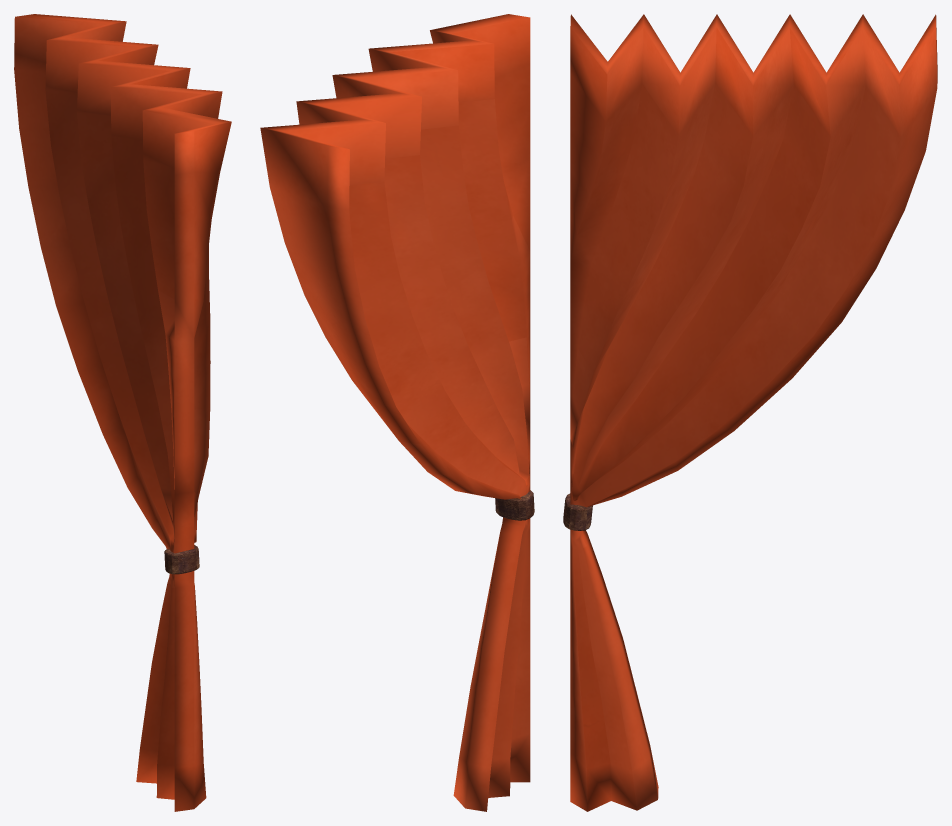
The model's file is curtain.fbx.
The picture shows the model from 3 angles, left to right: view 1: azimuth 30°, elevation 25°; view 2: azimuth 150°, elevation 25°; view 3: azimuth 270°, elevation 25°; orthographic projection. The views are drawn at different scales.
Visible parts, largest first — view 1: Circle.004, Cube.015; view 2: Circle.004, Cube.015; view 3: Circle.004, Cube.015.
Part boxes in pixels (box(x1,y1,x2,y2)): Circle.004: box(14, 14, 231, 811); Cube.015: box(164, 545, 199, 574); Circle.004: box(260, 14, 530, 811); Cube.015: box(495, 490, 534, 520); Circle.004: box(570, 14, 937, 811); Cube.015: box(563, 493, 592, 530).
Bounding box in the file's own units: 17.96 × 116 × 50.85.
Materials: 2 (2 with a texture image).
